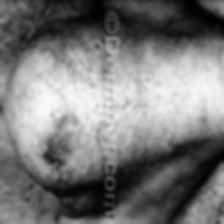Potentially Malignant Skin Tumors: (22, 33, 92, 185)
